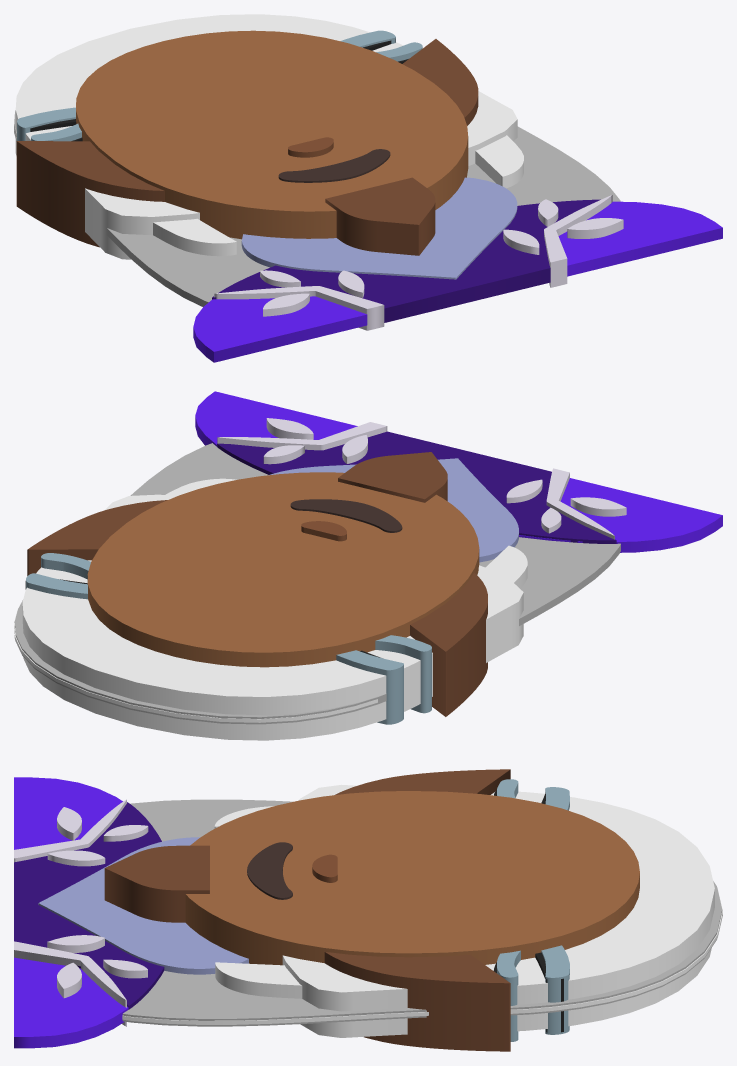
The model's file is emoji_u1f9dd_1f3fe_200d_2640.glb.
3 views of the same model, one above another, from view 1: azimuth 30°, elevation 25°; view 2: azimuth 150°, elevation 25°; view 3: azimuth 270°, elevation 25° (orthographic). The views are drawn at different scales.
Parts seen in each view (by area): view 1: emoji_u1f9dd_1f3fe_200d_2640; view 2: emoji_u1f9dd_1f3fe_200d_2640; view 3: emoji_u1f9dd_1f3fe_200d_2640.
Part boxes in pixels (x1=…): emoji_u1f9dd_1f3fe_200d_2640: x1=14, y1=14, x2=722, y2=362; emoji_u1f9dd_1f3fe_200d_2640: x1=14, y1=391, x2=722, y2=740; emoji_u1f9dd_1f3fe_200d_2640: x1=14, y1=769, x2=722, y2=1051.
Size of the model in its own units: 0.0293 by 0.0046 by 0.0338.
